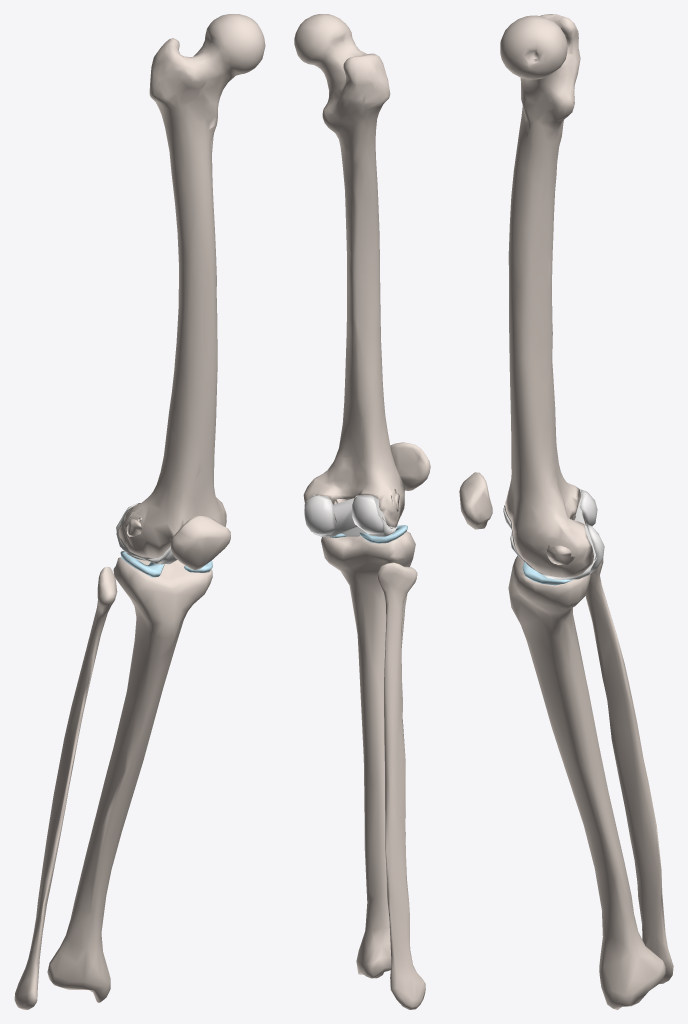
File: 3d-vh-m-knee-r_lod_20.glb
3 views of the same model, side by side, from view 1: azimuth 30°, elevation 25°; view 2: azimuth 150°, elevation 25°; view 3: azimuth 270°, elevation 25° (orthographic). The views are drawn at different scales.
Visible parts, largest first — view 1: VH_M_femur_R, VH_M_tibia_R, VH_M_fibula_R, VH_M_patella_R, VH_M_meniscus_R; view 2: VH_M_femur_R, VH_M_tibia_R, VH_M_fibula_R, VH_M_patella_R, VH_M_articular_cartilage_of_knee_R, VH_M_medial_condyle_of_right_femur_inf, VH_M_lateral_condyle_of_femur_inf_R, VH_M_meniscus_R; view 3: VH_M_femur_R, VH_M_tibia_R, VH_M_fibula_R, VH_M_patella_R, VH_M_articular_cartilage_of_knee_R.
Part boxes in pixels (left/top/right/bottom): VH_M_femur_R: left=118, top=14, right=265, bottom=558; VH_M_tibia_R: left=47, top=557, right=212, bottom=1002; VH_M_fibula_R: left=14, top=566, right=117, bottom=1009; VH_M_patella_R: left=170, top=515, right=230, bottom=569; VH_M_meniscus_R: left=120, top=551, right=212, bottom=577; VH_M_femur_R: left=294, top=14, right=404, bottom=528; VH_M_tibia_R: left=321, top=531, right=415, bottom=978; VH_M_fibula_R: left=377, top=562, right=425, bottom=1009; VH_M_patella_R: left=390, top=442, right=430, bottom=490; VH_M_articular_cartilage_of_knee_R: left=304, top=485, right=404, bottom=537; VH_M_medial_condyle_of_right_femur_inf: left=304, top=495, right=336, bottom=535; VH_M_lateral_condyle_of_femur_inf_R: left=352, top=495, right=384, bottom=534; VH_M_meniscus_R: left=330, top=525, right=407, bottom=543; VH_M_femur_R: left=500, top=14, right=593, bottom=577; VH_M_tibia_R: left=508, top=555, right=665, bottom=1009; VH_M_fibula_R: left=585, top=558, right=673, bottom=984; VH_M_patella_R: left=459, top=472, right=492, bottom=529; VH_M_articular_cartilage_of_knee_R: left=504, top=489, right=596, bottom=579.
Size of the model in its own units: 0.1735 by 0.8874 by 0.1648.
